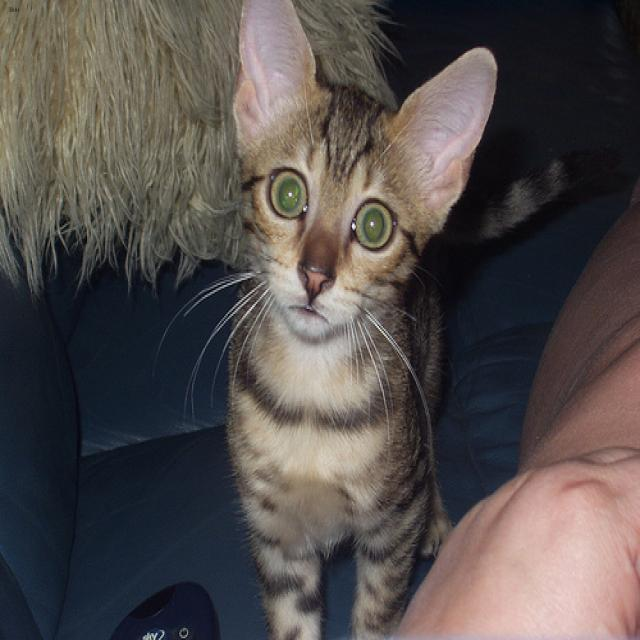Egyptian_Mau: (228, 0, 497, 376)
